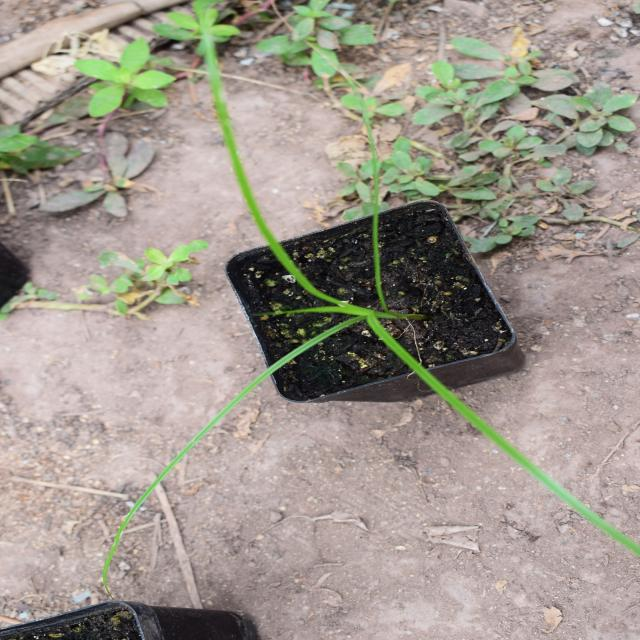sedge: (51, 152, 530, 525)
